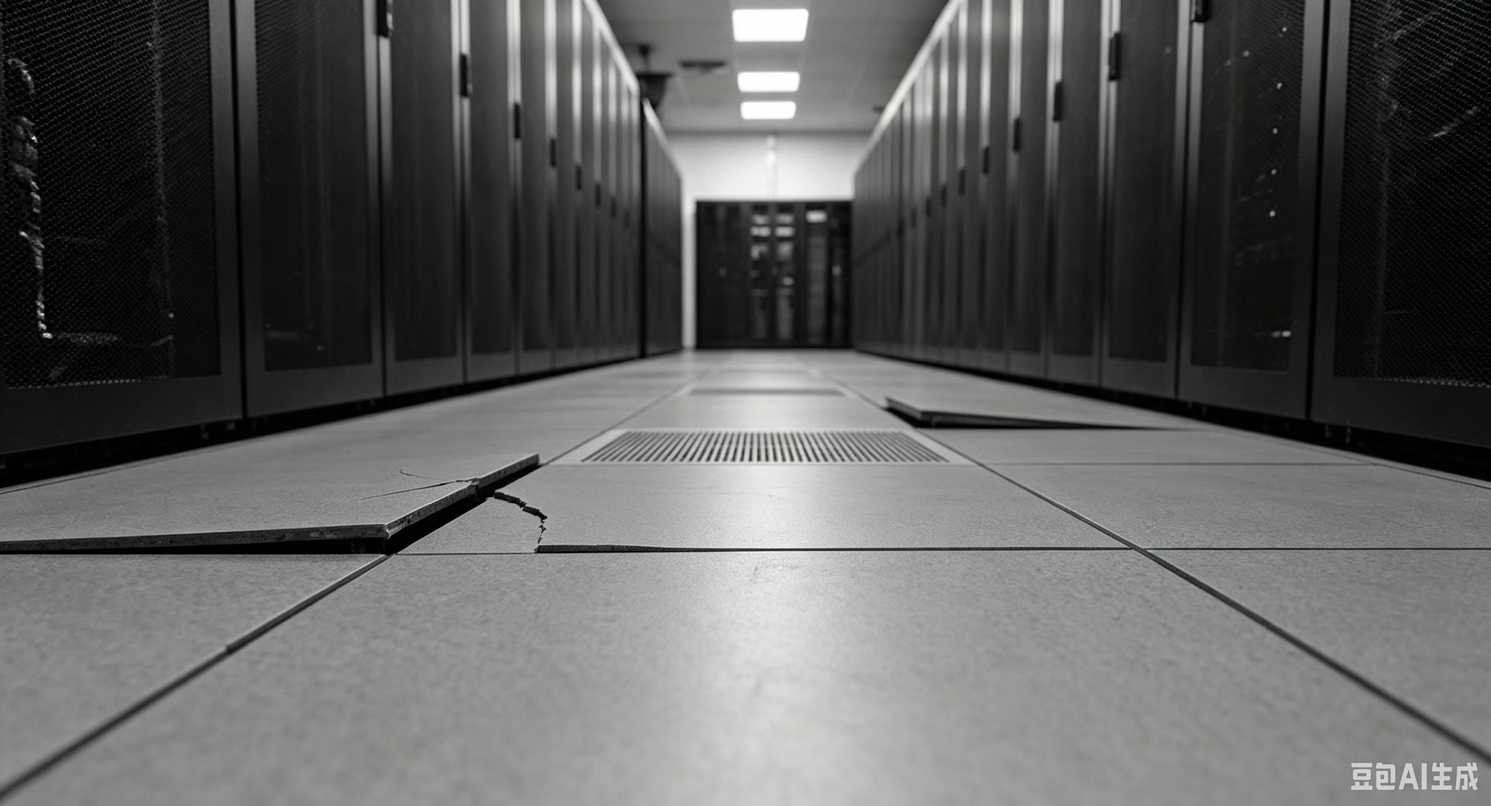floor_defect: (1, 514, 440, 571), (386, 447, 569, 559), (871, 381, 1193, 440), (574, 521, 760, 575)
